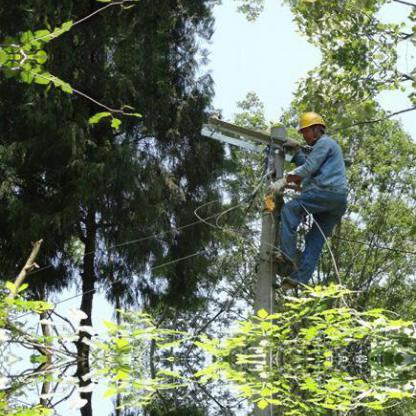helmet: (297, 108, 328, 142)
person: (271, 108, 350, 286)
